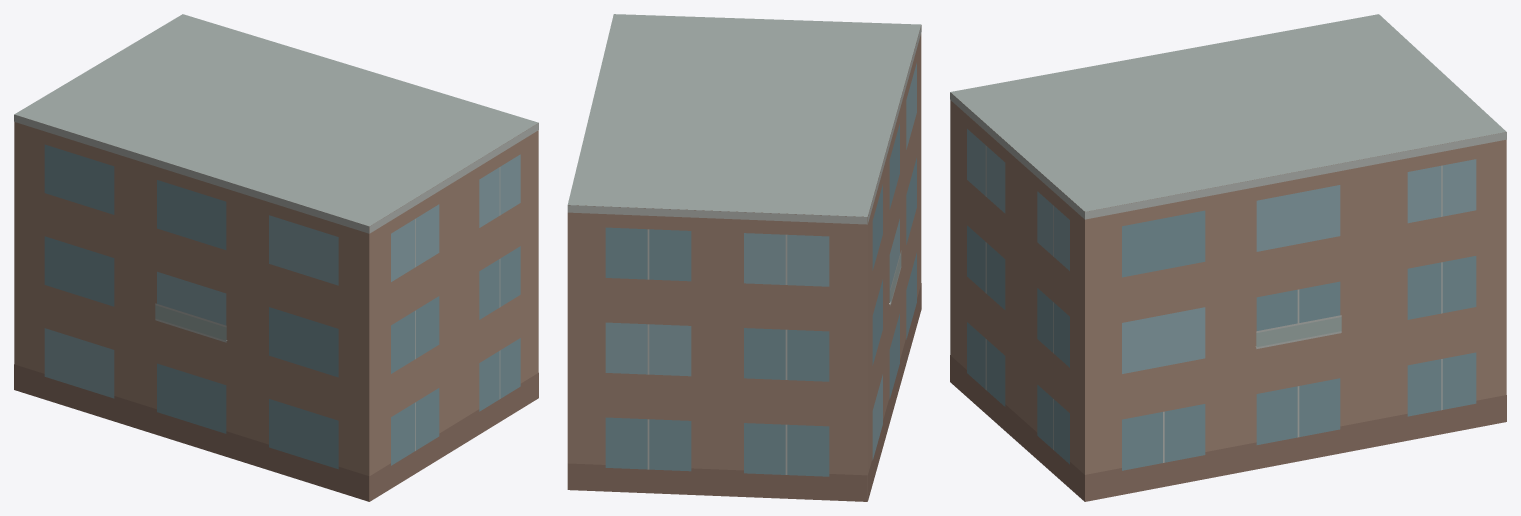
Rendered from survey-upis-32571646.glb.
3 views of the same model, side by side, from view 1: azimuth 30°, elevation 25°; view 2: azimuth 150°, elevation 25°; view 3: azimuth 270°, elevation 25° (orthographic). The views are drawn at different scales.
Visible parts, largest first — view 1: survey-upis-32571646.tmp; view 2: survey-upis-32571646.tmp; view 3: survey-upis-32571646.tmp.
Part boxes in pixels (x1,y1,x2,y2): survey-upis-32571646.tmp: [14, 14, 538, 501]; survey-upis-32571646.tmp: [567, 14, 921, 501]; survey-upis-32571646.tmp: [950, 14, 1506, 501].
Size of the model in its own units: 13.4 by 9.15 by 15.93.
